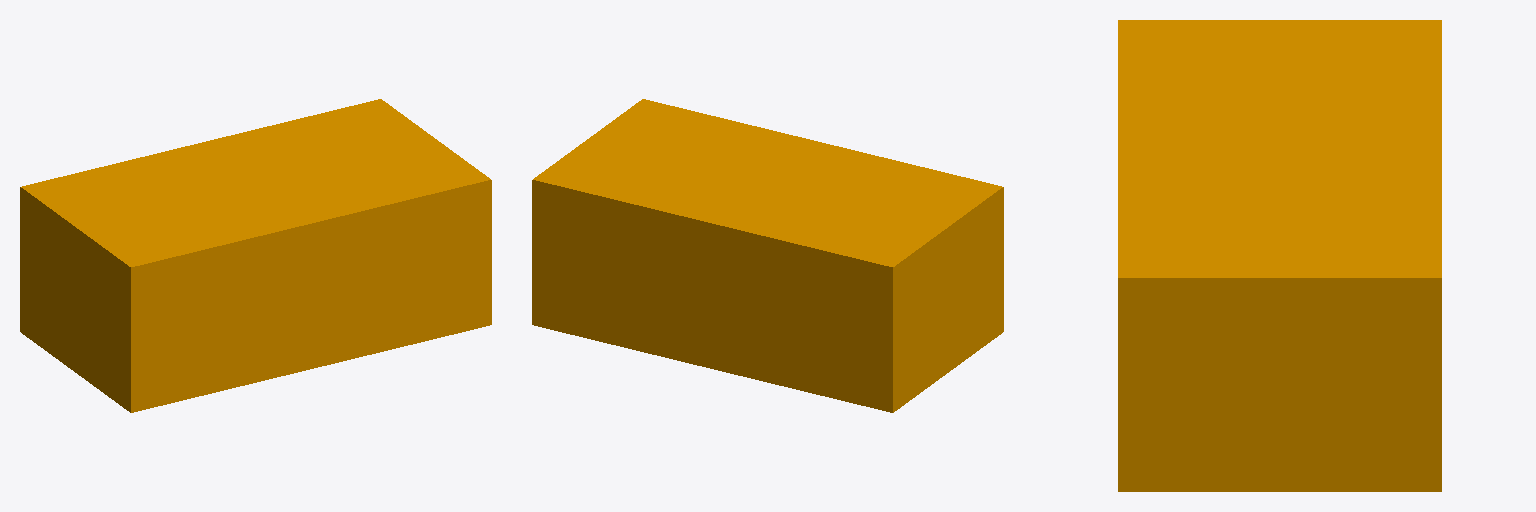
The robot description file, URDF, robot "2x2":
<?xml version='1.0' encoding='UTF-8'?>
<robot name="2x2">
  <link name="base_link">
    <inertial>
      <origin xyz="0.0 0.0 0.0" rpy="0.0 0.0 0.0"/>
      <mass value="0.01"/>
      <inertia ixx="0.1" ixy="0.0" ixz="0.0" iyy="0.1" iyz="0.0" izz="0.1"/>
    </inertial>
    <visual>
      <geometry>
        <box size="0.0311 0.0165 0.012 "/>
      </geometry>
      <material name=""/>
      <origin xyz="0.0 0.0 0.0" rpy="0.0 0.0 0.0"/>
    </visual>
    <collision>
      <geometry>
        <box size="0.0311 0.0165 0.012 "/>
      </geometry>
      <origin xyz="0.0 0.0 0.0" rpy="0.0 0.0 0.0"/>
    </collision>
  </link>
  <material name="">
    <color rgba="1. 1. 1. 1."/>
  </material>
  <contact>
    <lateral_friction value="1.0"/>
    <rolling_friction value="0.0"/>
    <contact_cfm value="0.0"/>
    <contact_erp value="1.0"/>
  </contact>
</robot>

--- Render facts (derived) ---
3 views of the same robot in one strip: view 1: azimuth 30°, elevation 25°; view 2: azimuth 150°, elevation 25°; view 3: azimuth 270°, elevation 25° (orthographic).
Model 2x2 with 1 links and 0 joints (none), rooted at base_link, posed all joints at 0.
Links seen in each view (by area): view 1: base_link; view 2: base_link; view 3: base_link.
Link boxes in pixels (x1,y1,x2,y2): base_link: [20, 99, 491, 412]; base_link: [532, 99, 1003, 412]; base_link: [1118, 20, 1441, 491].
Size in the robot's own frame: 0.0311 by 0.0165 by 0.012 metres.
Geometry: primitives only (box / cylinder / sphere), no mesh files.